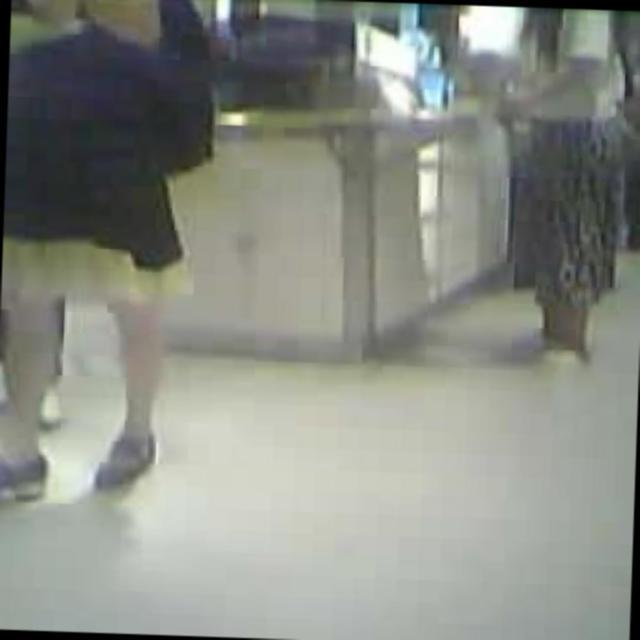person: (0, 0, 173, 503), (502, 9, 632, 372)
